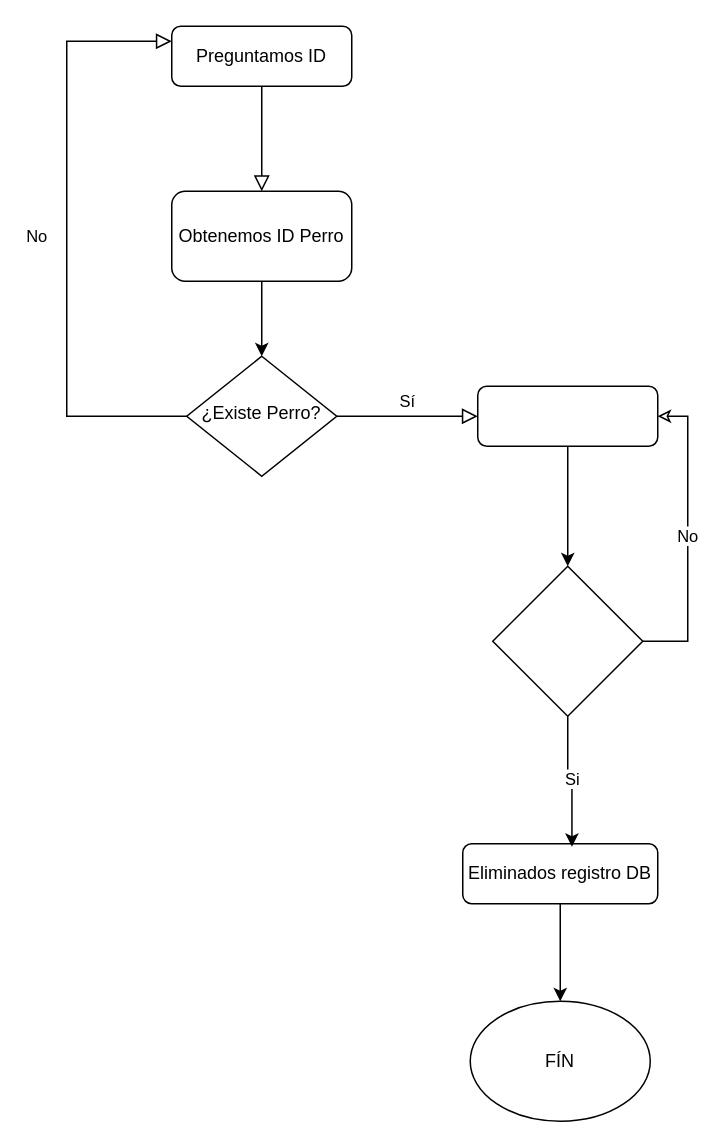
Image size: 726x1148. Some labels were removed from this diagram. Here are the shapes that lost their labels. From the top down, the centre of each, then its label:
At point (567, 415): "Preguntamos nombre - confirmación -".
At point (567, 640): "¿Nombre bien escrito?".
